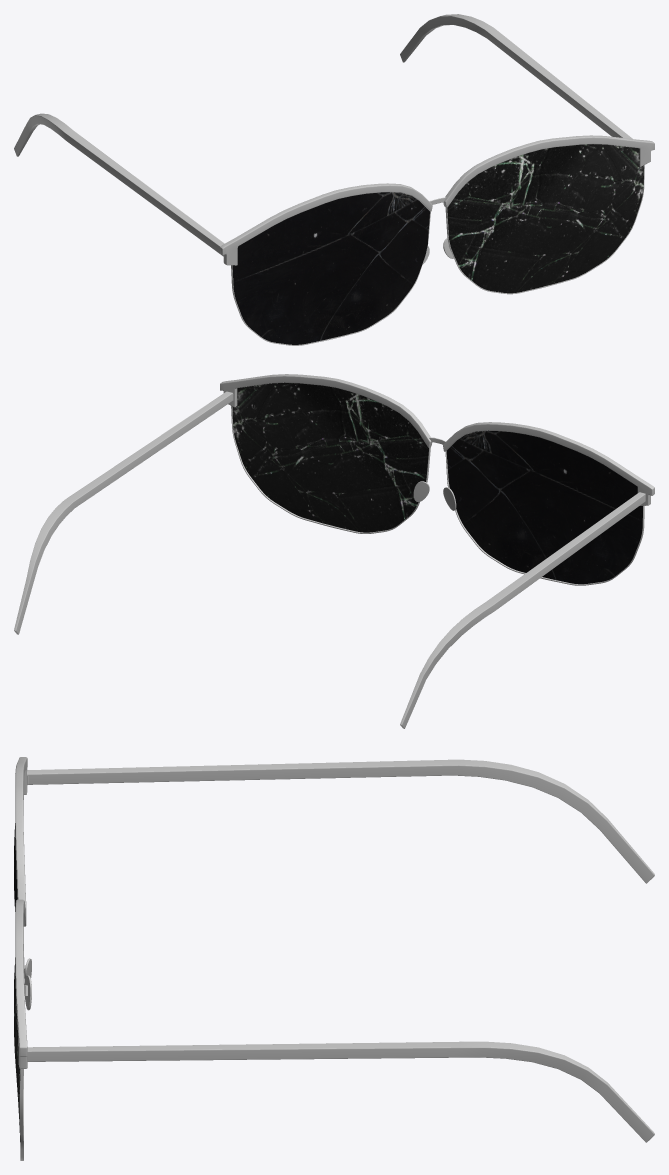
File: Glassess.fbx
The picture shows the model from 3 angles, top to bottom: view 1: azimuth 30°, elevation 25°; view 2: azimuth 150°, elevation 25°; view 3: azimuth 270°, elevation 25°; orthographic projection. The views are drawn at different scales.
Parts seen in each view (by area): view 1: pCube6, pCube10, pCube8, pCube5, pCube4, pCube9, pCylinder13, pCylinder8; view 2: pCube10, pCube6, pCube5, pCube8, pCube9, pCube4, pCylinder13, pCylinder8; view 3: pCube5, pCube8, pCube9, pCube4.
Part boxes in pixels (<box>): pCube6: <box>232,192,429,344</box>; pCube10: <box>447,144,644,293</box>; pCube8: <box>400,14,632,138</box>; pCube5: <box>14,113,224,256</box>; pCube4: <box>220,183,432,265</box>; pCube9: <box>443,135,654,207</box>; pCylinder13: <box>445,165,644,294</box>; pCylinder8: <box>231,211,430,345</box>; pCube10: <box>232,382,428,532</box>; pCube6: <box>446,430,642,584</box>; pCube5: <box>400,492,645,728</box>; pCube8: <box>14,391,232,634</box>; pCube9: <box>220,374,432,447</box>; pCube4: <box>443,422,654,505</box>; pCylinder13: <box>231,406,430,533</box>; pCylinder8: <box>445,451,644,585</box>; pCube5: <box>27,759,654,883</box>; pCube8: <box>27,1041,654,1142</box>; pCube9: <box>15,899,27,1068</box>; pCube4: <box>15,757,27,914</box>.
Size of the model in its own units: 10.36 by 3.38 by 9.66.
